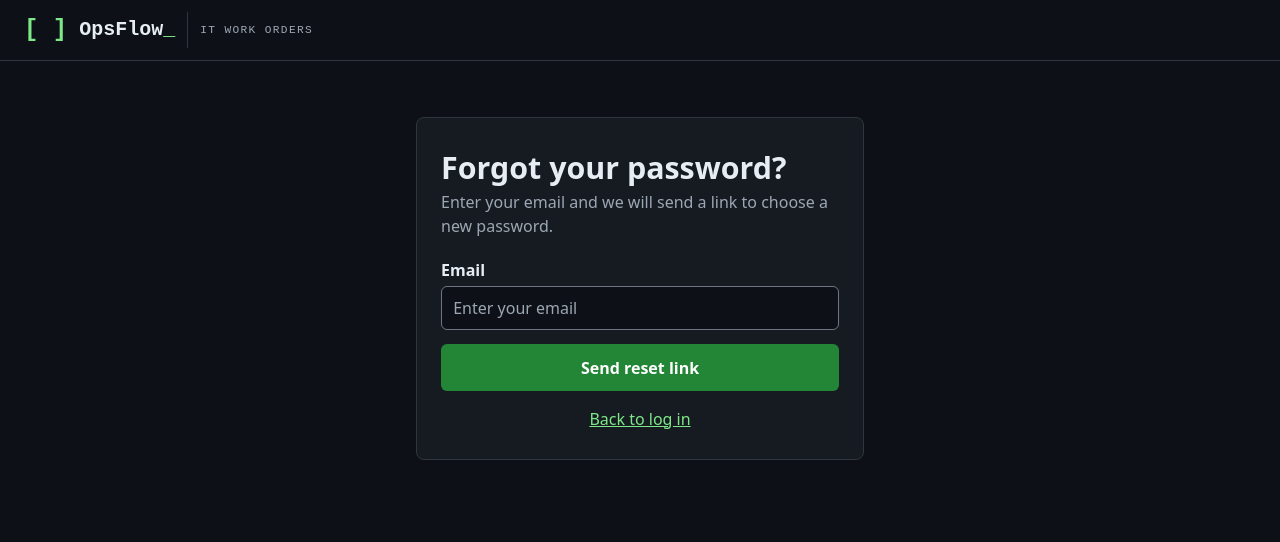
web authentication screens › requests a reset link from the forgot-password form
The image size is (1280, 542).
In the field labelled "Email": [640, 308] box [441, 286, 839, 330], type "jamie@example.com"
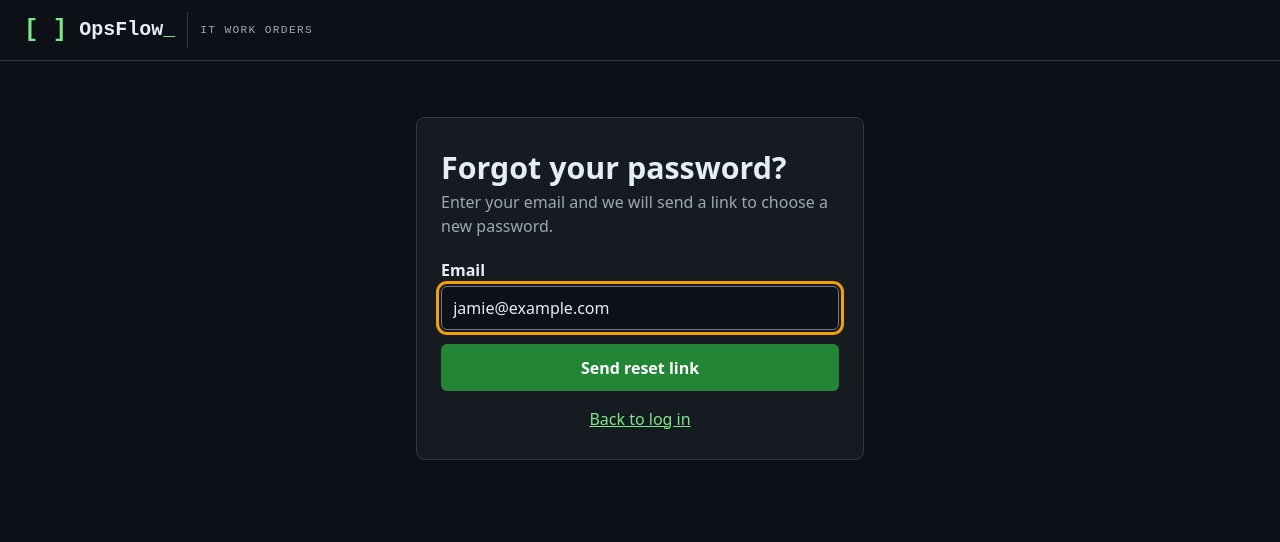
Click the button "Send reset link": [640, 368] box [441, 344, 839, 391]
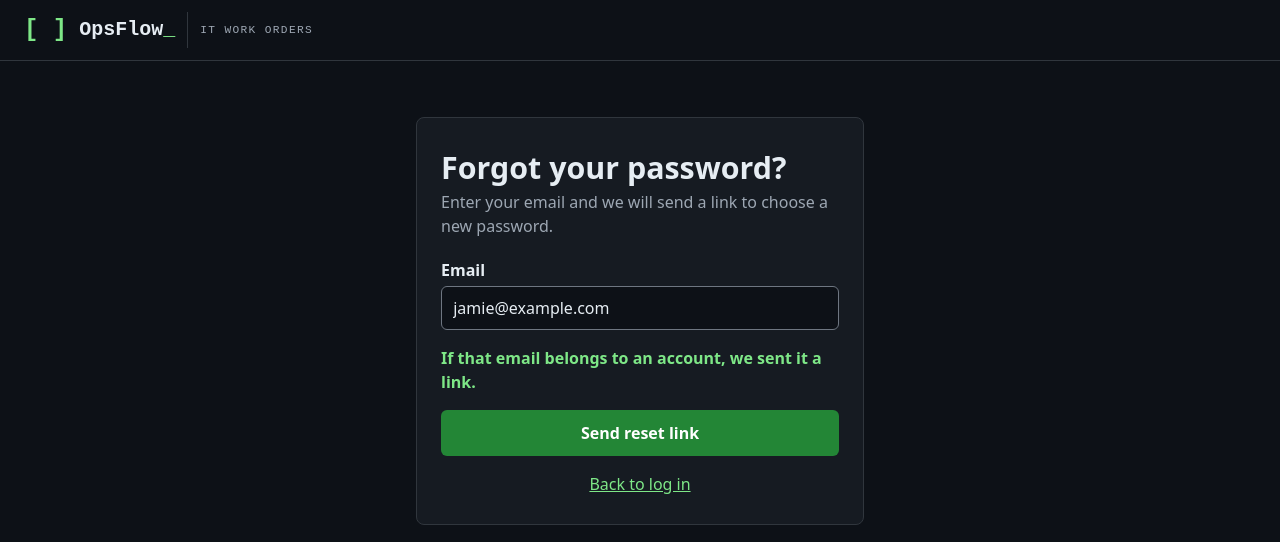
expect the message shows "we sent it a link": met, box [441, 347, 822, 393]
